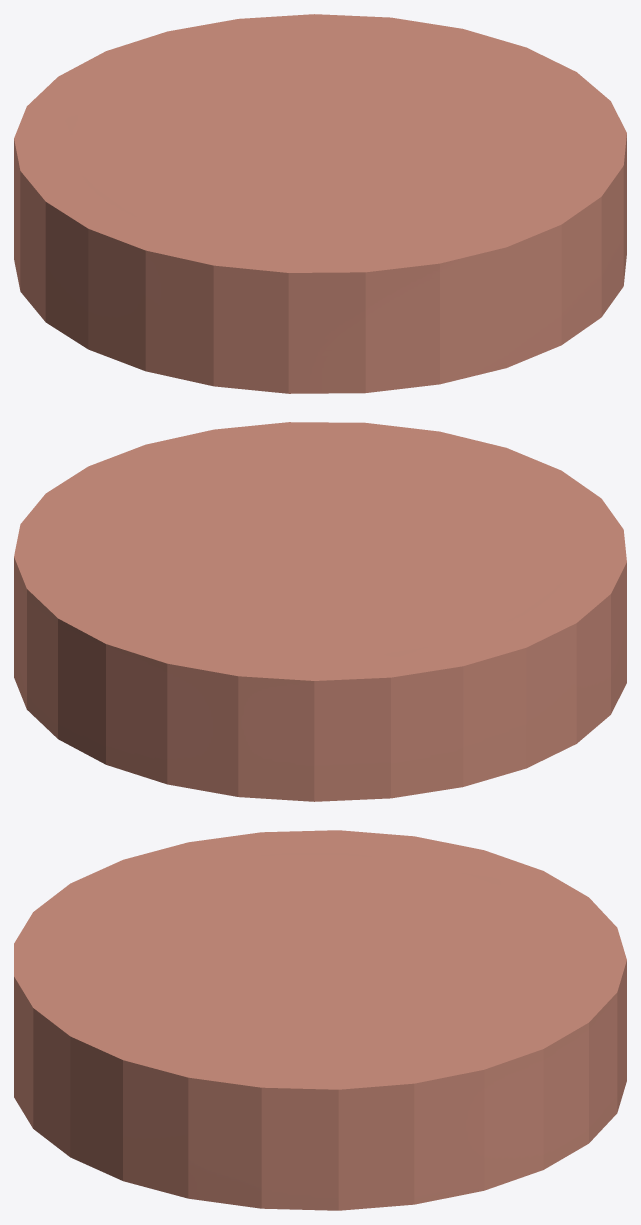
Rendered from geo_arena_00.fbx.
3 views of the same model, one above another, from view 1: azimuth 30°, elevation 25°; view 2: azimuth 150°, elevation 25°; view 3: azimuth 270°, elevation 25° (orthographic).
Parts seen in each view (by area): view 1: geo_arena_00; view 2: geo_arena_00; view 3: geo_arena_00.
Boxes of the visible parts, <box> form: geo_arena_00: <box>14,14,626,393</box>; geo_arena_00: <box>14,422,626,801</box>; geo_arena_00: <box>14,830,626,1210</box>.
Bounding box in the file's own units: 200 × 43.4 × 199.
